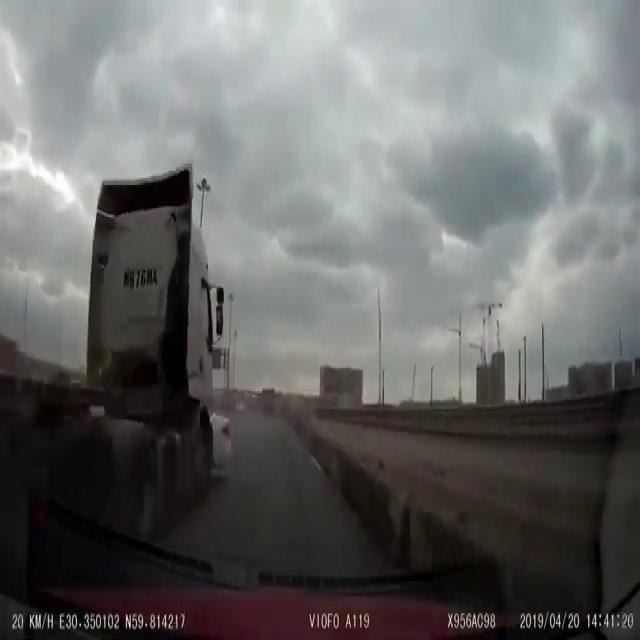severe: (0, 156, 238, 594)
